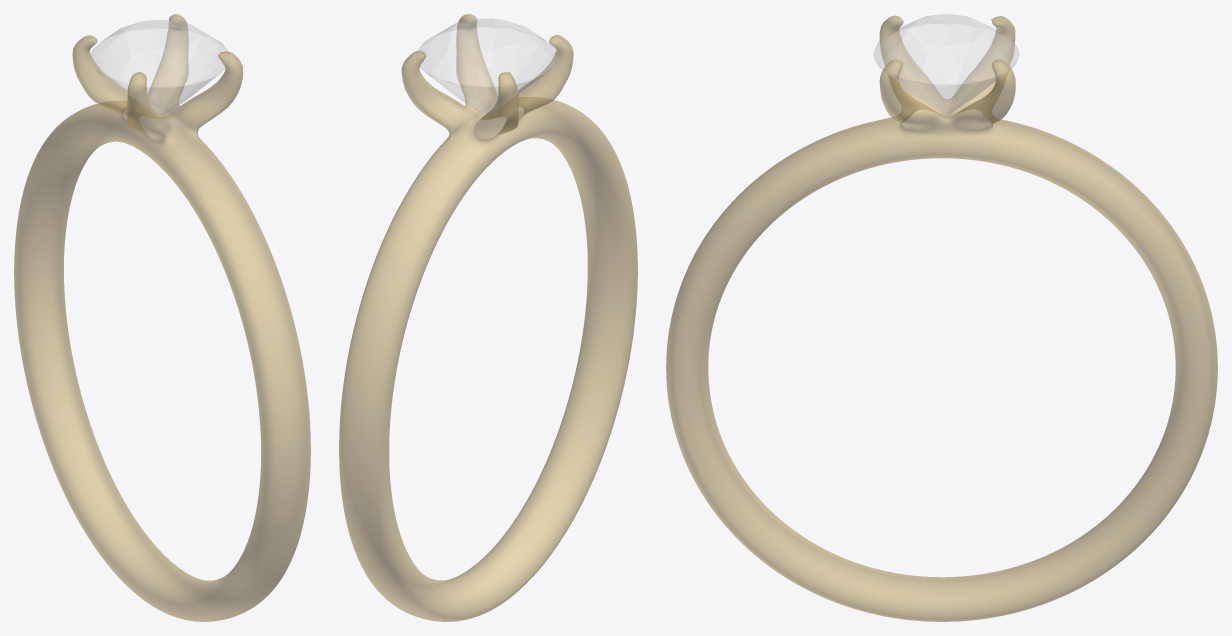
3 views of the same model, side by side, from view 1: azimuth 30°, elevation 25°; view 2: azimuth 150°, elevation 25°; view 3: azimuth 270°, elevation 25° (orthographic). The views are drawn at different scales.
Parts seen in each view (by area): view 1: Ring, Diamond; view 2: Ring, Diamond; view 3: Ring, Diamond.
Part boxes in pixels (x1,y1,x2,y2): Ring: (14,14,310,621); Diamond: (90,20,229,116); Ring: (339,14,637,621); Diamond: (416,19,556,115); Ring: (666,15,1217,621); Diamond: (874,14,1018,115).
Bounding box in the file's own units: 0.6111 × 2.72 × 2.32.
